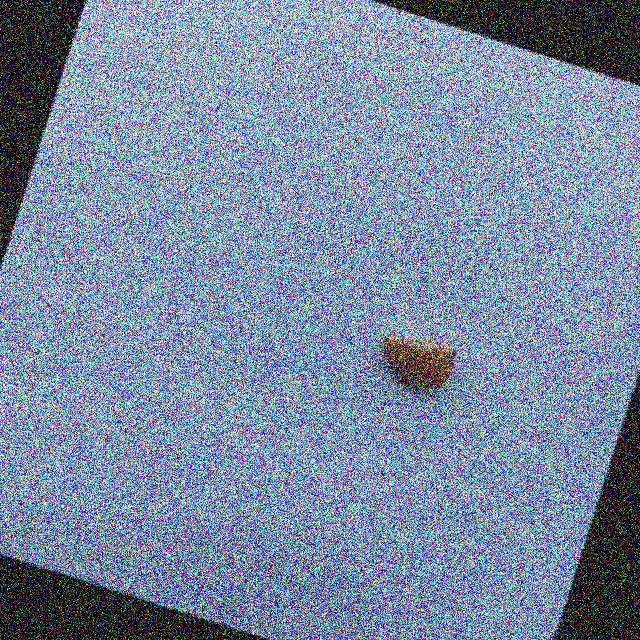grade4: (362, 317, 467, 405)
